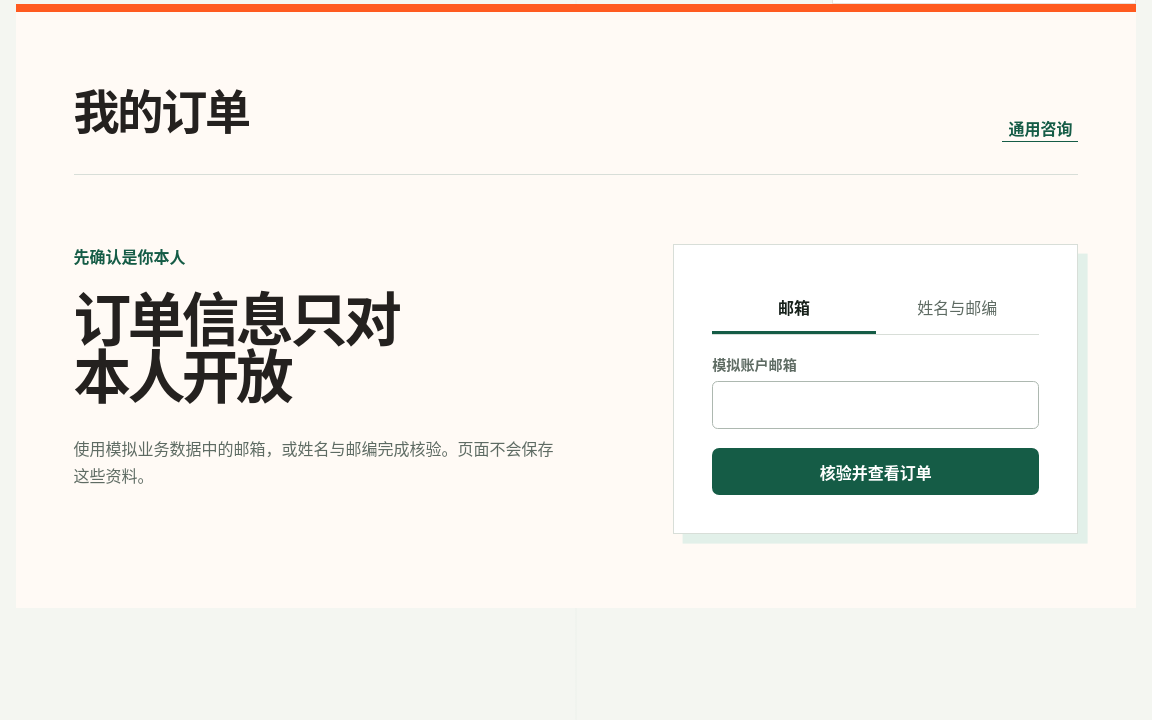
Test: SupportPage conversation and confirmation › uses execution_result as the only success signal and surfaces failure
(page scrolled)
Expected: the heading "订单信息只对本人开放" is shown, [74, 288, 413, 403]
Type "customer@example.invalid" into the field labelled "模拟账户邮箱". click: x=876, y=405
box: [712, 381, 1039, 429]
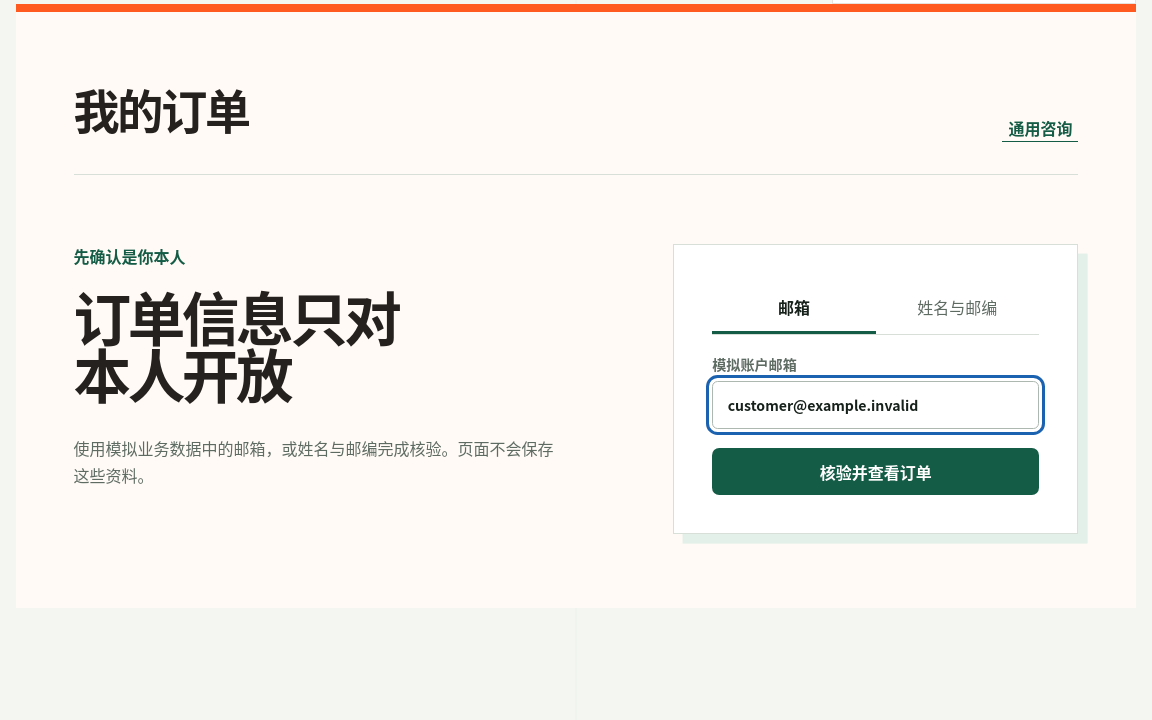
Click the button "核验并查看订单". click: x=876, y=472
box: [712, 448, 1039, 495]
(page scrolled)
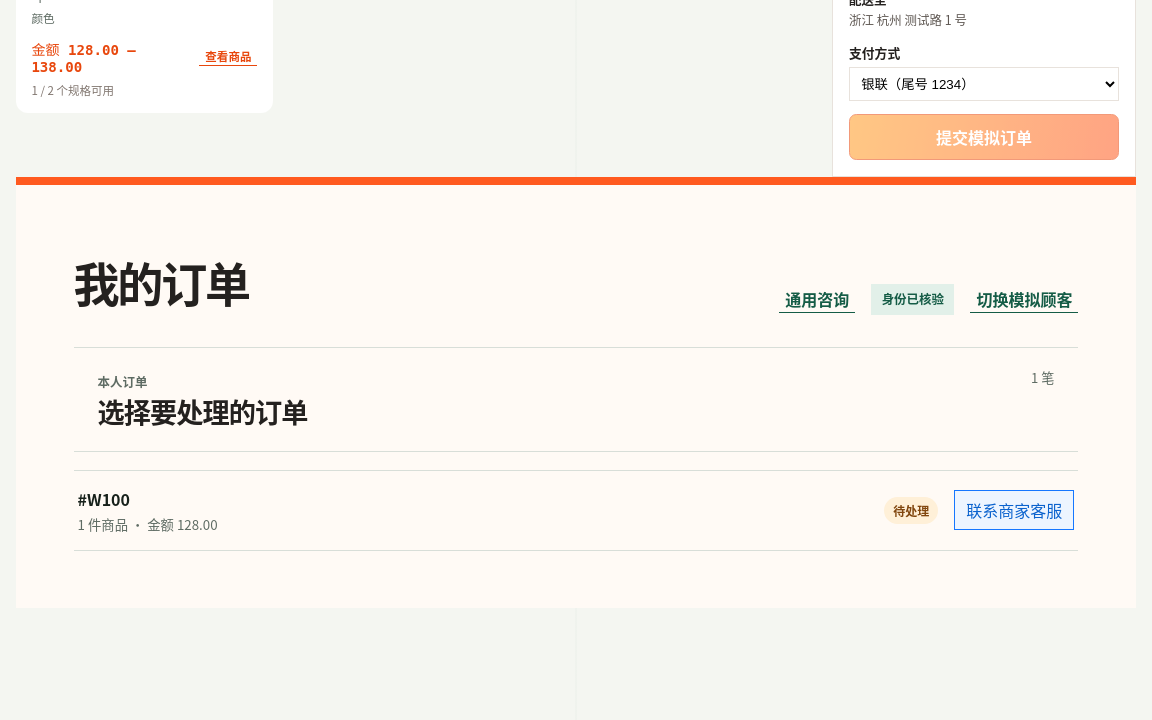
Now the text "#W100" is shown, box [78, 487, 130, 511]
Click the button "联系商家客服". click: x=1014, y=510
box: [954, 490, 1074, 530]
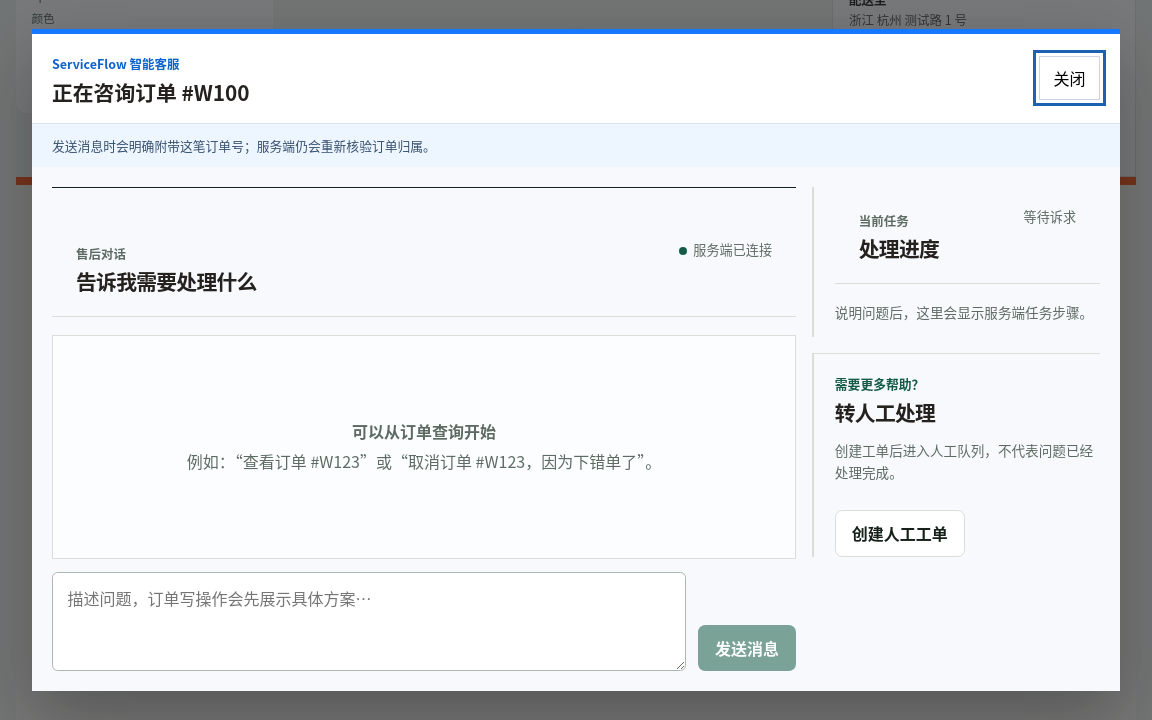
Now the dialog "正在咨询订单 #W100" is shown
Type "cancel order #W100" into the text box named "输入售后问题". click: x=369, y=622
box: [52, 572, 686, 672]
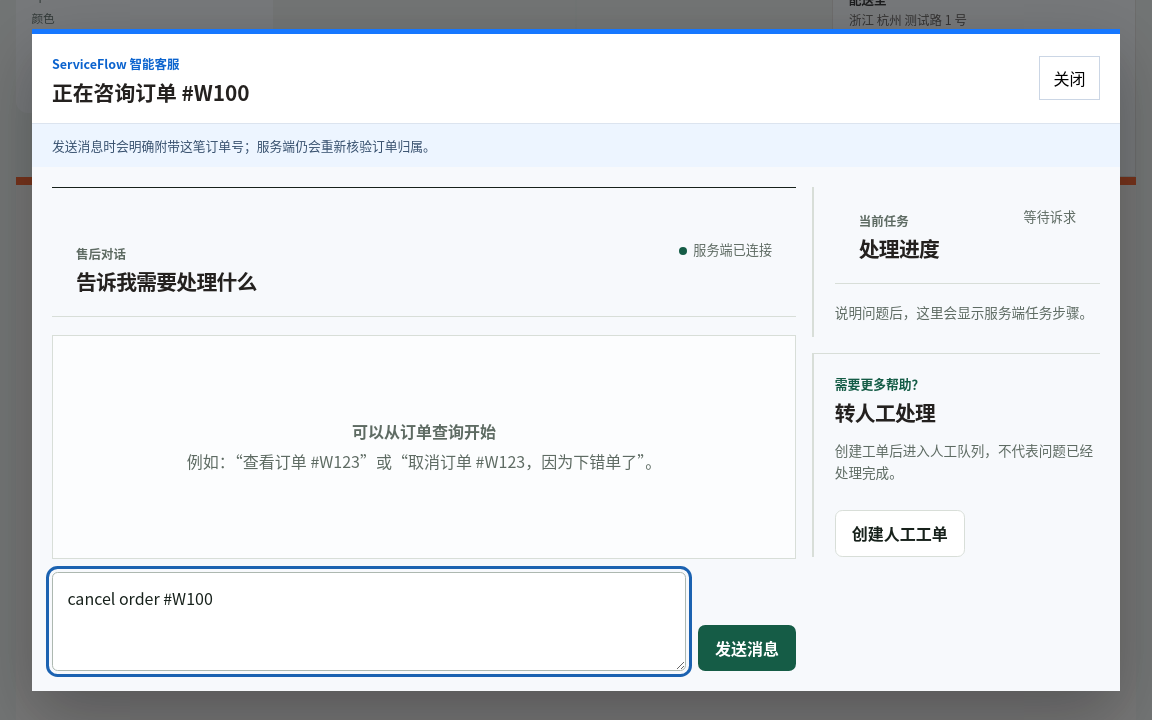
Click the button "发送消息". click: x=747, y=648
box: [698, 625, 796, 672]
(page scrolled)
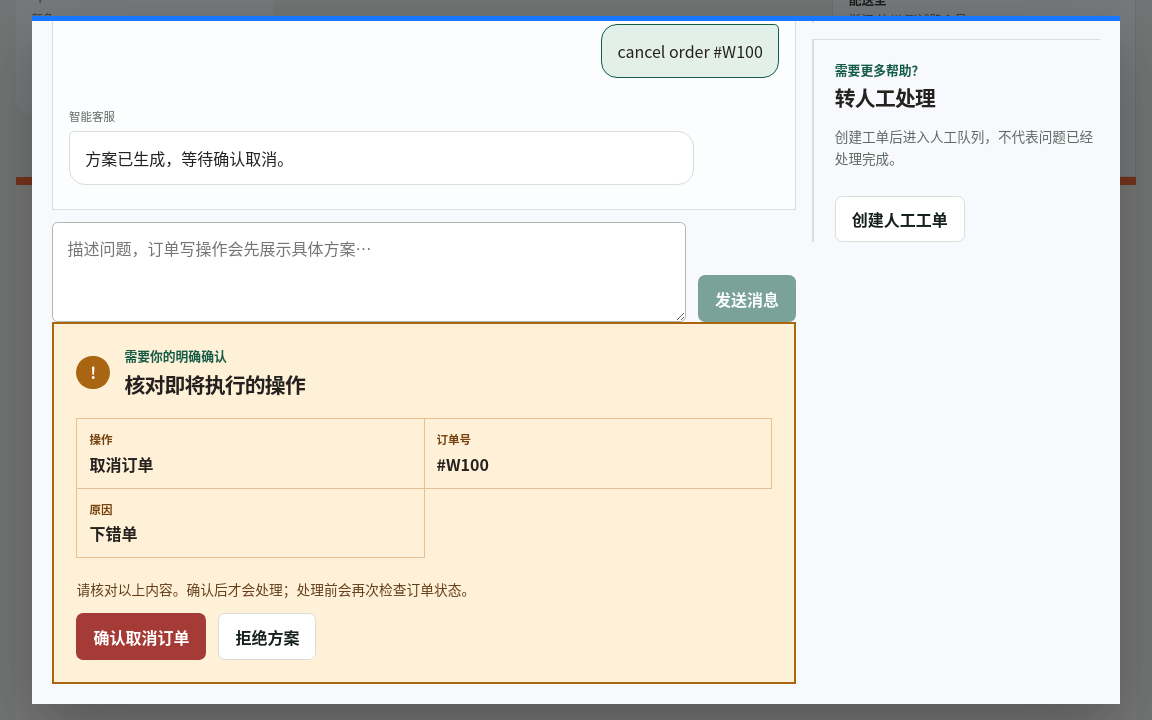
Click the button "确认取消订单". click: x=141, y=637
box: [76, 613, 206, 660]
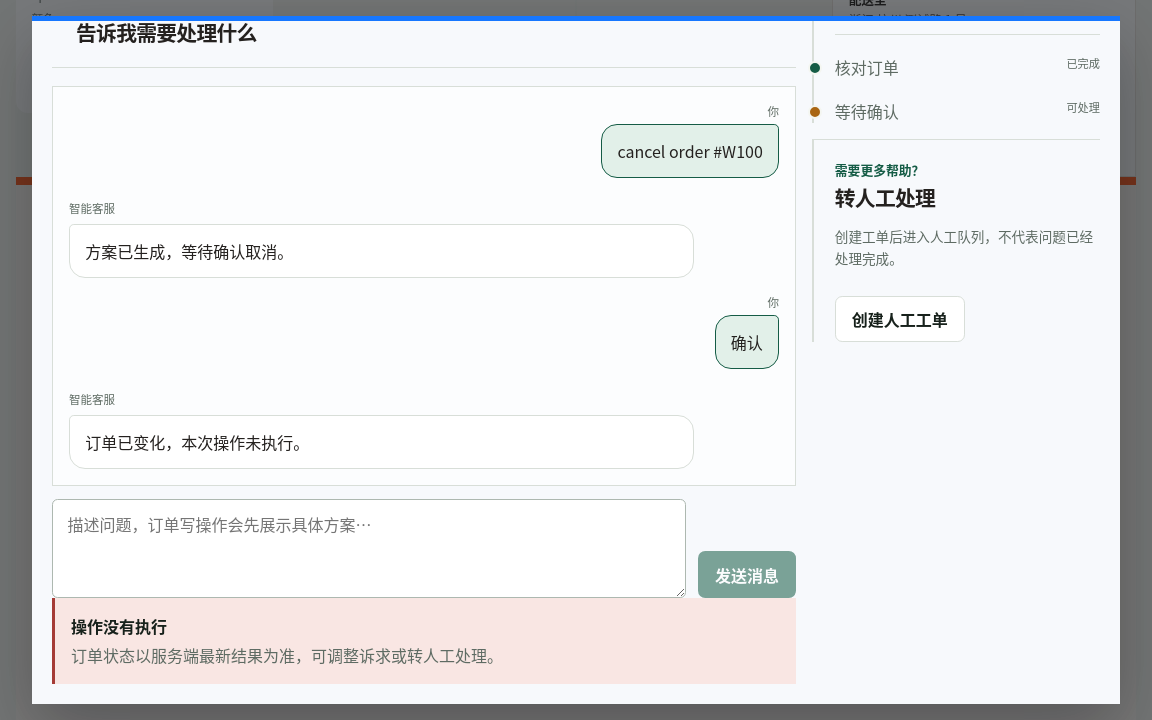
Now the text "操作没有执行" is shown, box [71, 614, 167, 638]
Now the text "订单状态以服务端最新结果为准，可调整诉求或转人工处理。" is shown, box [71, 643, 503, 668]
